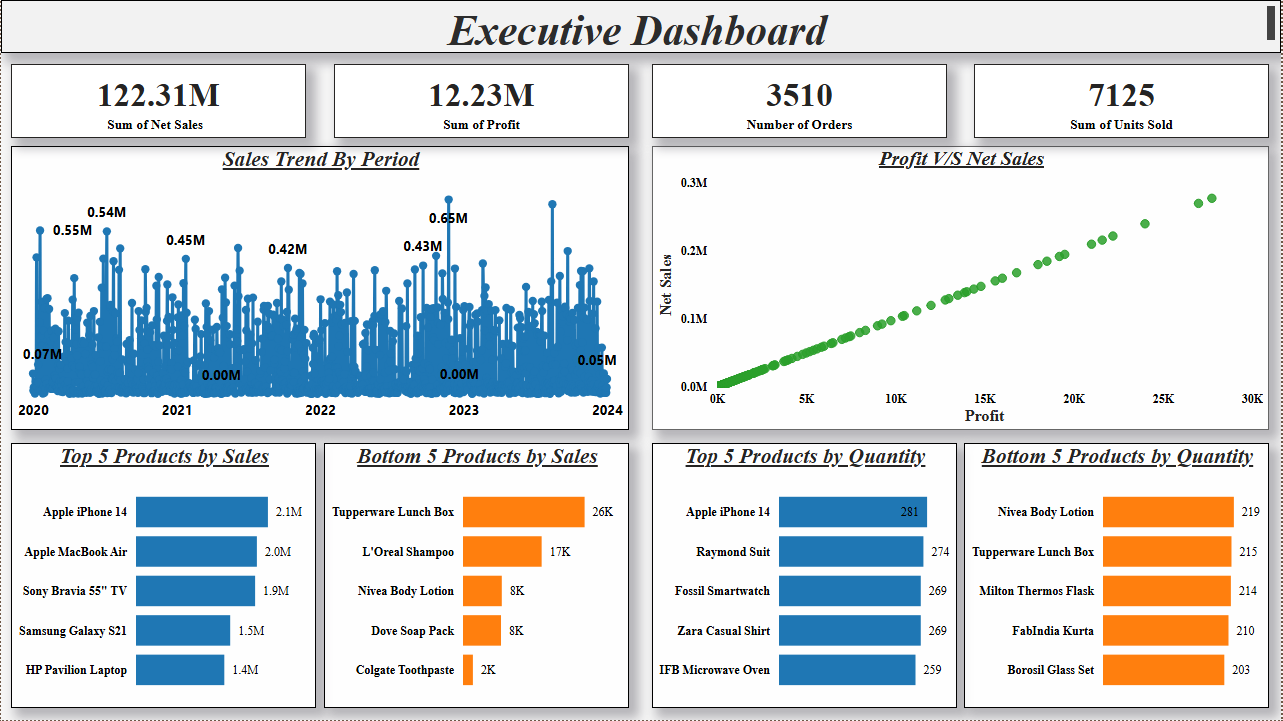

This screenshot's page, from the dashboard's own definition file:
{"tool":"powerbi","page":{"name":"Executive","canvas":[1280,720],"ordinal":0},"visuals":[{"type":"textbox","box":[0,0,1280,52.5],"z":0},{"type":"lineChart","title":"Sales Trend By Period","fields":{"Y":["Sum(Fact Table.Net Sales  )"],"Category":["Fact Table.Date (dd/mm/yyyy).Variation.Date Hierarchy.Year"]},"box":[10,146.2,617.5,283.8],"z":1000},{"type":"scatterChart","title":"Profit V/S Net Sales","fields":{"X":["Fact Table.Profit"],"Y":["Fact Table.Net Sales  "]},"box":[651.2,146.2,616.2,283.8],"z":2000},{"type":"barChart","title":"Top 5 Products by Sales","fields":{"Category":["Dim Product.Product Name"],"Y":["Sum(Fact Table.Profit)"]},"box":[10,442.5,305,265],"z":2001},{"type":"barChart","title":"Bottom 5 Products by Sales","fields":{"Category":["Dim Product.Product Name"],"Y":["Sum(Fact Table.Profit)"]},"box":[322.5,442.5,305,265],"z":2002},{"type":"barChart","title":"Top 5 Products by Quantity","fields":{"Category":["Dim Product.Product Name"],"Y":["Sum(Fact Table.Units Sold)"]},"box":[651.2,442.5,305,265],"z":2003},{"type":"barChart","title":"Bottom 5 Products by Quantity","fields":{"Category":["Dim Product.Product Name"],"Y":["Sum(Fact Table.Units Sold)"]},"box":[962.5,442.5,305,265],"z":2004},{"type":"card","fields":{"Values":["Sum(Fact Table.Net Sales  )"]},"box":[10,63.8,295,73.8],"z":2005},{"type":"card","fields":{"Values":["Sum(Fact Table.Profit)"]},"box":[332.5,63.8,295,73.8],"z":2006},{"type":"card","fields":{"Values":["Count(Fact Table.Order ID)"]},"box":[651.2,63.8,295,73.8],"z":2007},{"type":"card","fields":{"Values":["Sum(Fact Table.Units Sold)"]},"box":[972.5,63.8,295,73.8],"z":2008}]}

Visuals, with their boxes in screenshot pixels (x1, y1, x2, y2), scaled from the page's 1280x720 canvas onto the 1283x721 screenshot:
textbox: 0/0/1282/53
"Sales Trend By Period" lineChart: 10/146/629/431
"Profit V/S Net Sales" scatterChart: 653/146/1270/431
"Top 5 Products by Sales" barChart: 10/443/316/708
"Bottom 5 Products by Sales" barChart: 323/443/629/708
"Top 5 Products by Quantity" barChart: 653/443/958/708
"Bottom 5 Products by Quantity" barChart: 965/443/1270/708
card - Sum(Fact Table.Net Sales  ): 10/64/306/138
card - Sum(Fact Table.Profit): 333/64/629/138
card - Count(Fact Table.Order ID): 653/64/948/138
card - Sum(Fact Table.Units Sold): 975/64/1270/138
